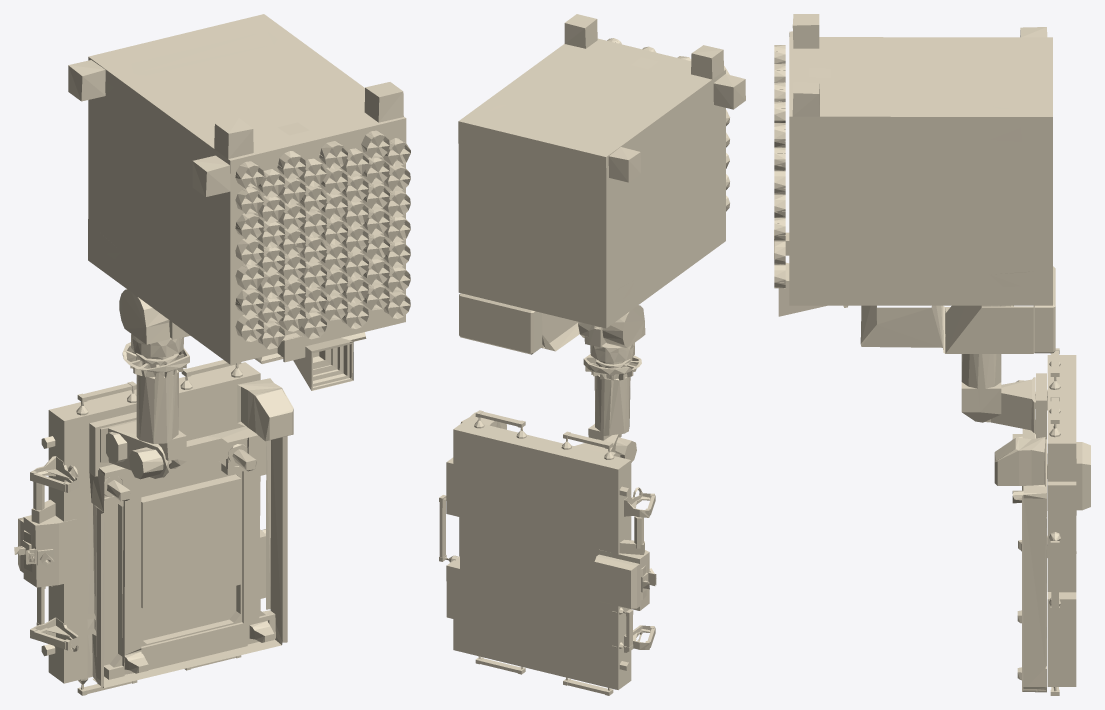
Rendered from nicer.glb.
The picture shows the model from 3 angles, left to right: view 1: azimuth 30°, elevation 25°; view 2: azimuth 150°, elevation 25°; view 3: azimuth 270°, elevation 25°; orthographic projection. The views are drawn at different scales.
Visible parts, largest first — view 1: NICER_Details; view 2: NICER_Details; view 3: NICER_Details.
Boxes of the visible parts, x1=… form: NICER_Details: x1=14, y1=14, x2=410, y2=695; NICER_Details: x1=439, y1=14, x2=745, y2=695; NICER_Details: x1=774, y1=14, x2=1090, y2=695.
Size of the model in its own units: 0.1236 by 0.3031 by 0.1418.
